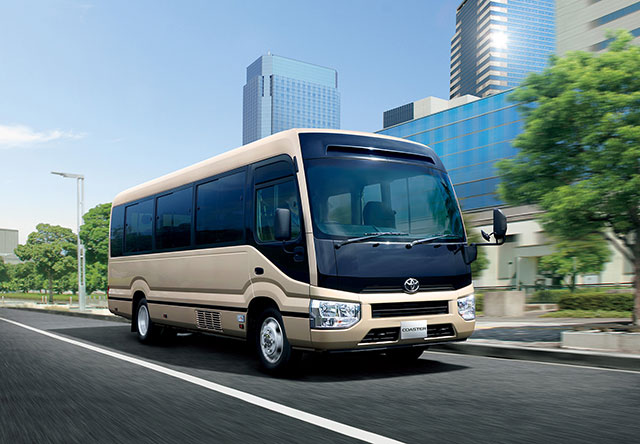bus: (105, 127, 477, 374)
